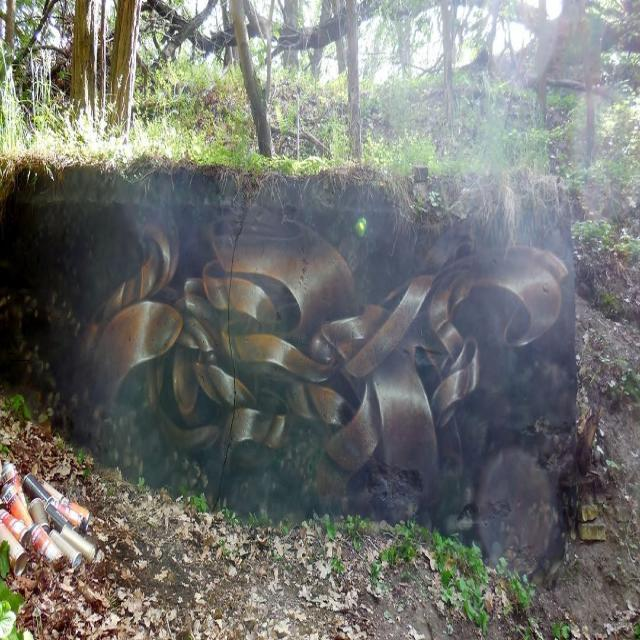-: (90, 182, 574, 554)
